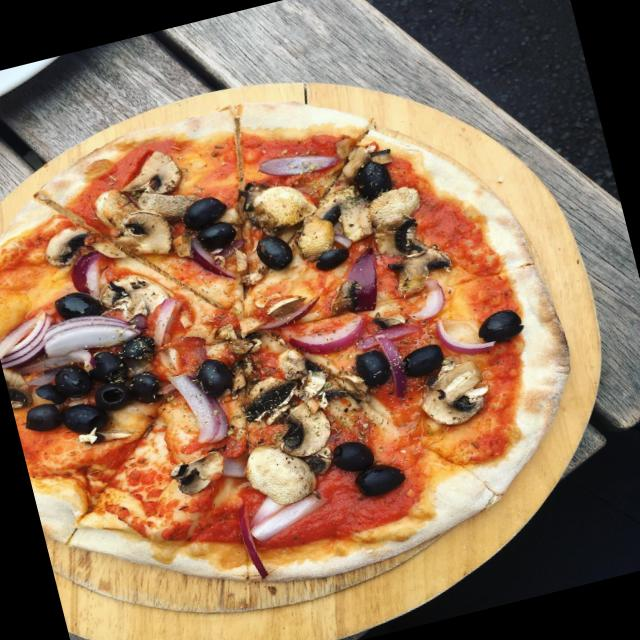black_olives: (15, 359, 104, 453), (76, 330, 168, 418), (182, 188, 238, 252), (346, 453, 408, 503), (468, 304, 527, 354), (342, 154, 394, 204), (192, 352, 235, 400), (250, 232, 294, 278), (403, 338, 451, 380), (352, 342, 394, 388), (331, 432, 377, 470), (60, 282, 104, 320), (316, 242, 350, 272)
mushrooms: (82, 142, 196, 266), (230, 347, 334, 471), (250, 159, 364, 266), (366, 212, 460, 294), (333, 180, 424, 257), (408, 355, 498, 426), (236, 435, 316, 510), (100, 264, 167, 334), (164, 446, 232, 501), (40, 214, 99, 266)
pizza: (0, 87, 567, 581)
